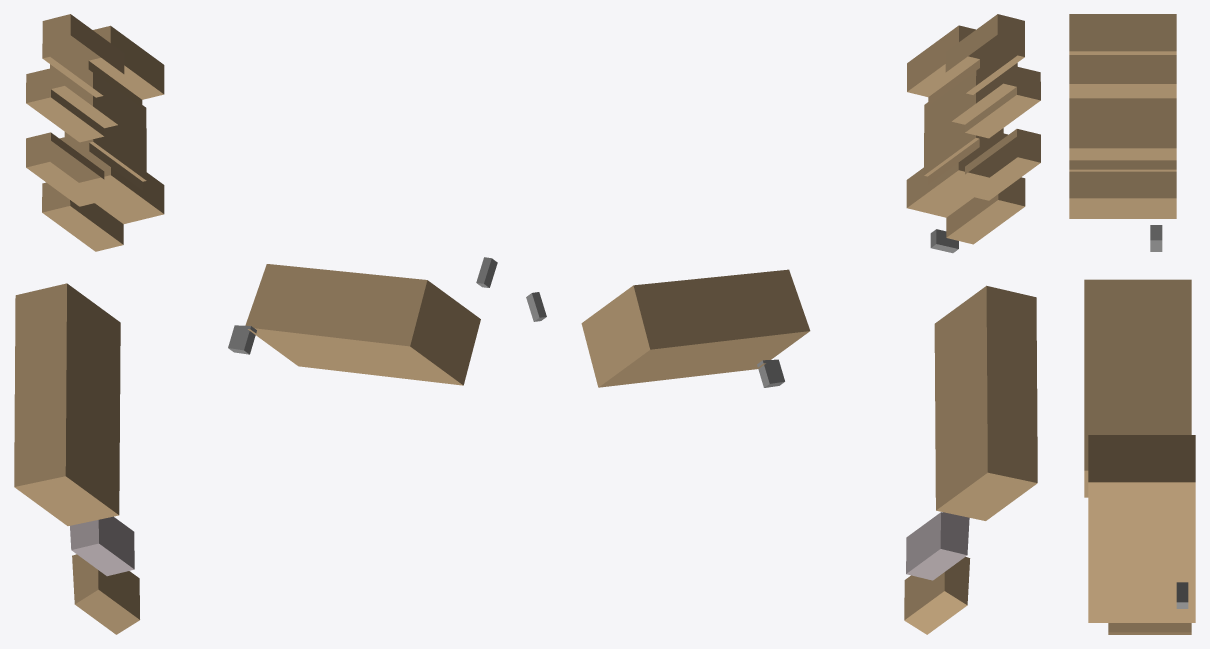
3 renders of one model, left to right at view 1: azimuth 30°, elevation 25°; view 2: azimuth 150°, elevation 25°; view 3: azimuth 270°, elevation 25°, orthographic. The views are drawn at different scales.
Parts seen in each view (by area): view 1: 0_3_1_3_3_3_1; view 2: 0_3_1_3_3_3_1; view 3: 0_3_1_3_3_3_1.
Boxes of the visible parts, x1=… form: 0_3_1_3_3_3_1: x1=14, y1=14, x2=497, y2=634; 0_3_1_3_3_3_1: x1=526, y1=14, x2=1040, y2=634; 0_3_1_3_3_3_1: x1=1069, y1=14, x2=1195, y2=634.
Bounding box in the file's own units: 139 × 167 × 31.8.
